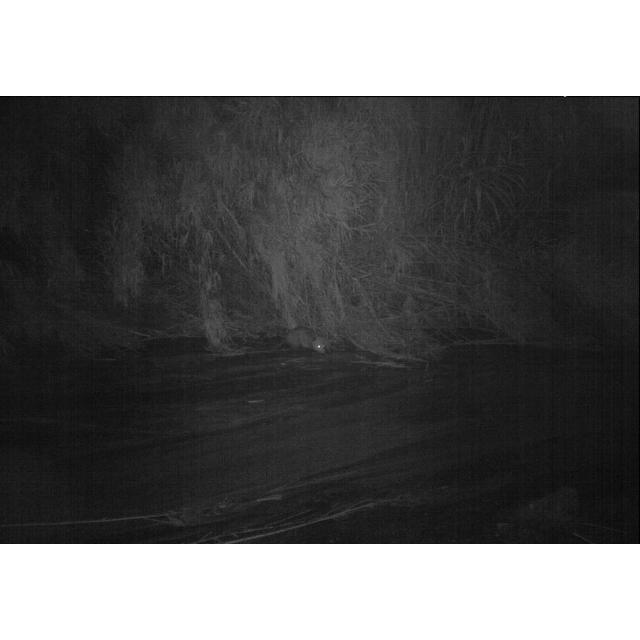animals: (279, 323, 331, 357)
